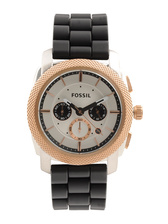watch: (25, 10, 145, 213)
